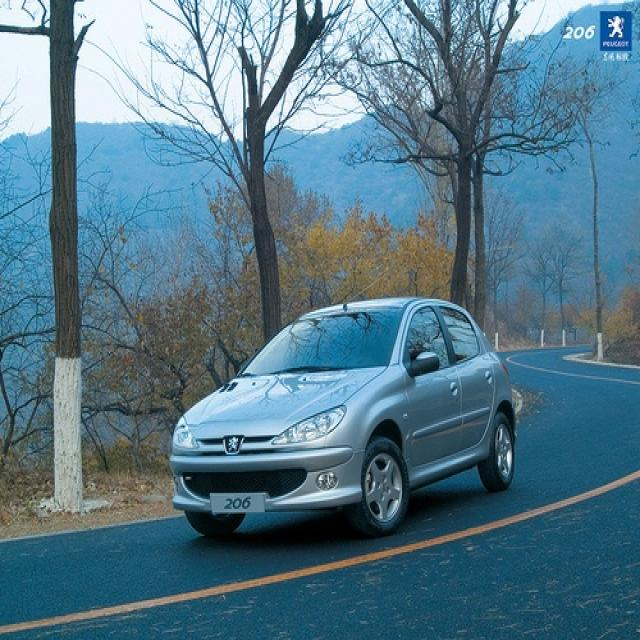car: (170, 294, 516, 538)
